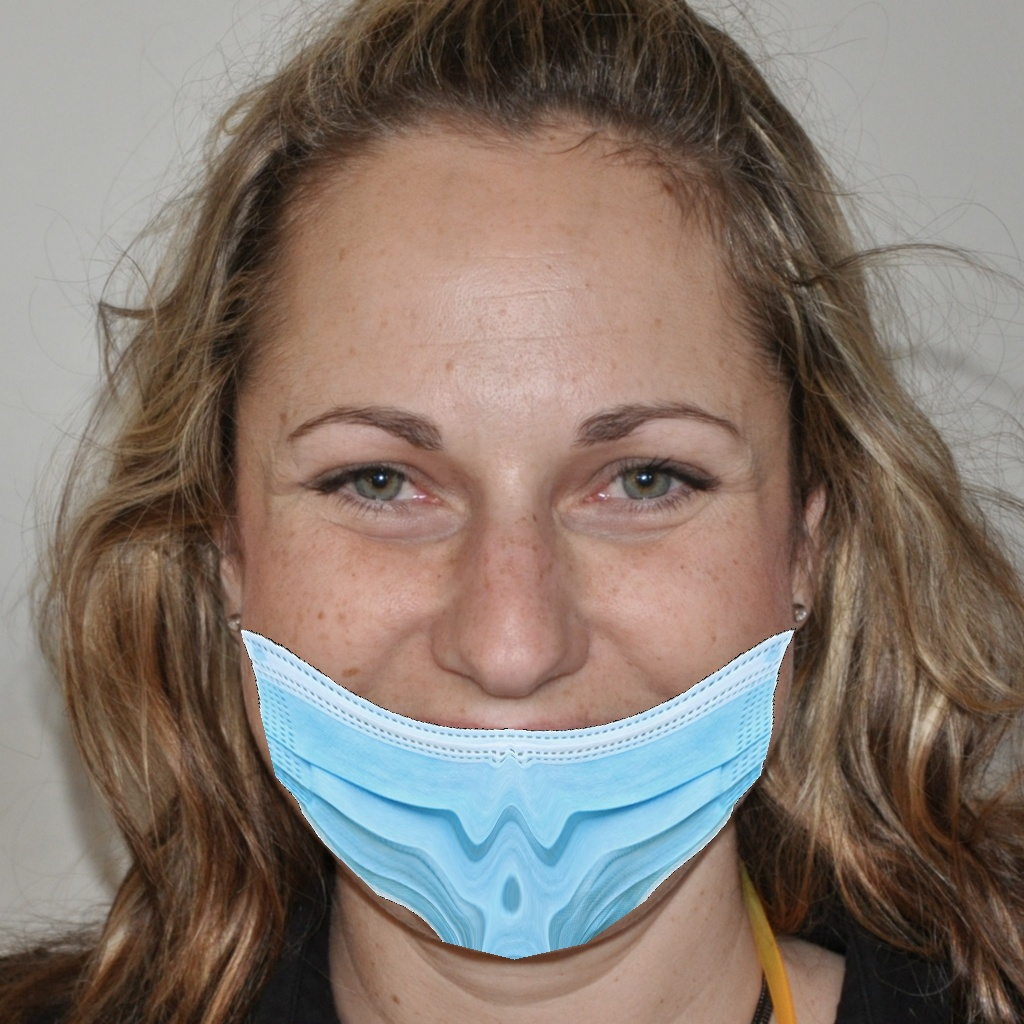mascarilla_mal_puesta: (259, 430, 777, 980)
